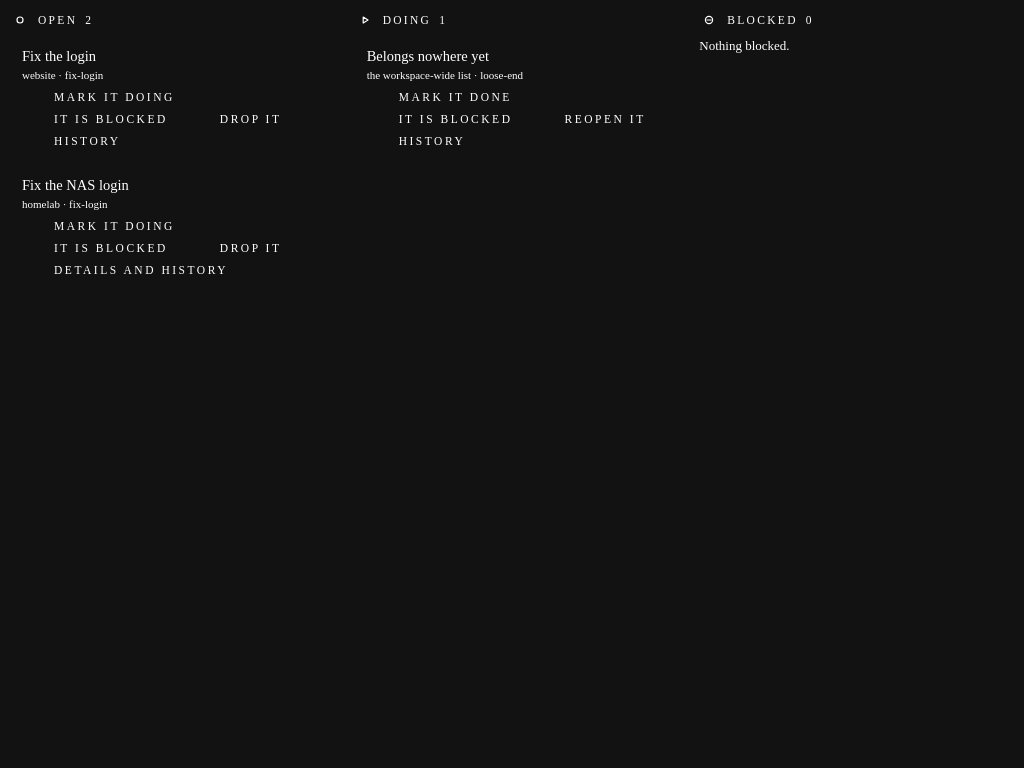
Test: One task in full › says a task recorded before there was a history has only its latest claim
Click the button "History" below "the workspace-wide list · loose-end" at [418, 141], box [367,131,469,151]
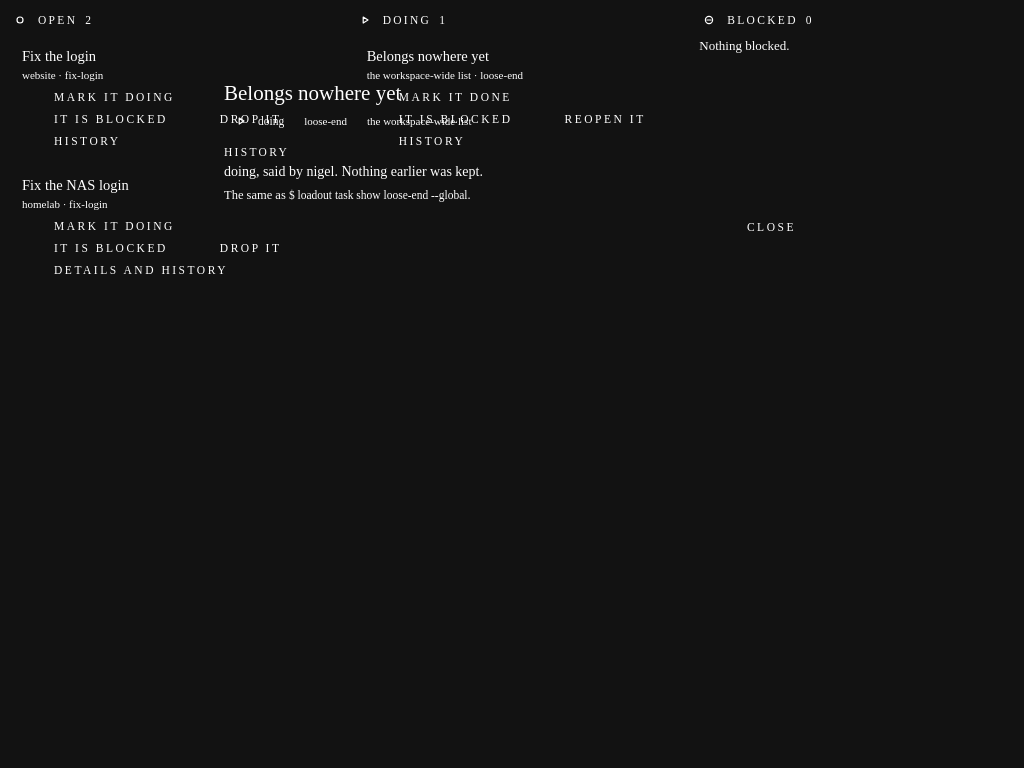
Now the text "doing, said by nigel. Nothing earlier was kept." is shown, box [224,164,483,179]
